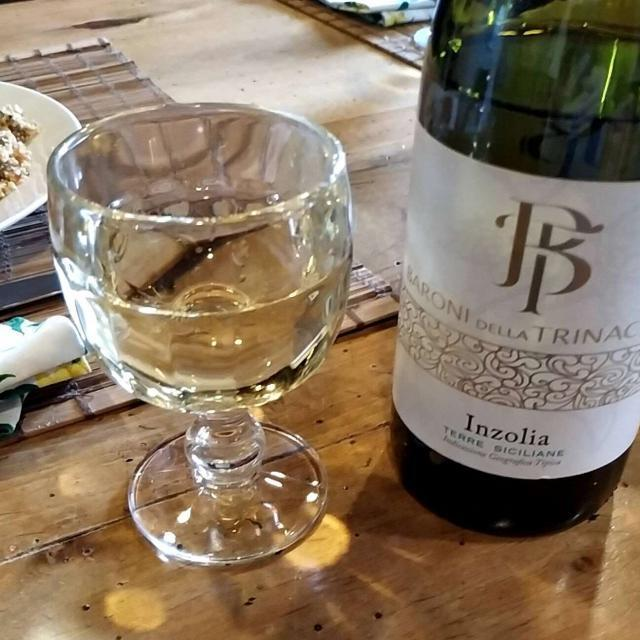wine: (70, 197, 335, 402)
